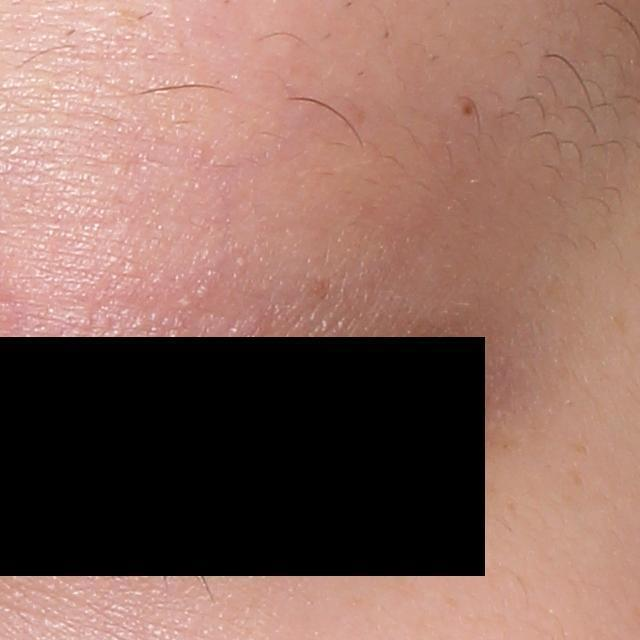nevus: (459, 101, 478, 119)
